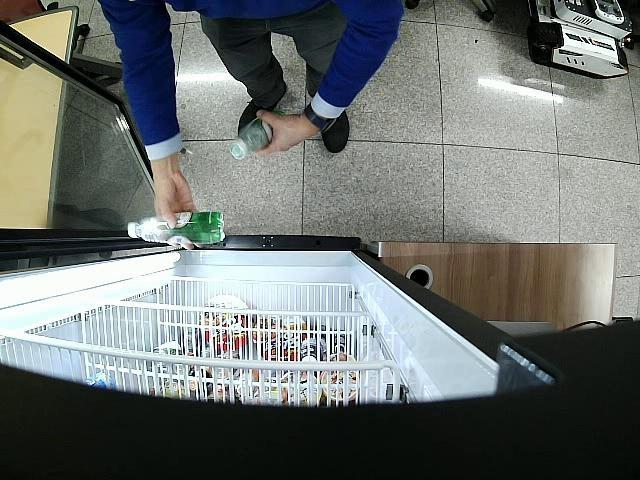18_trevi: (128, 212, 224, 245), (230, 110, 281, 160)
